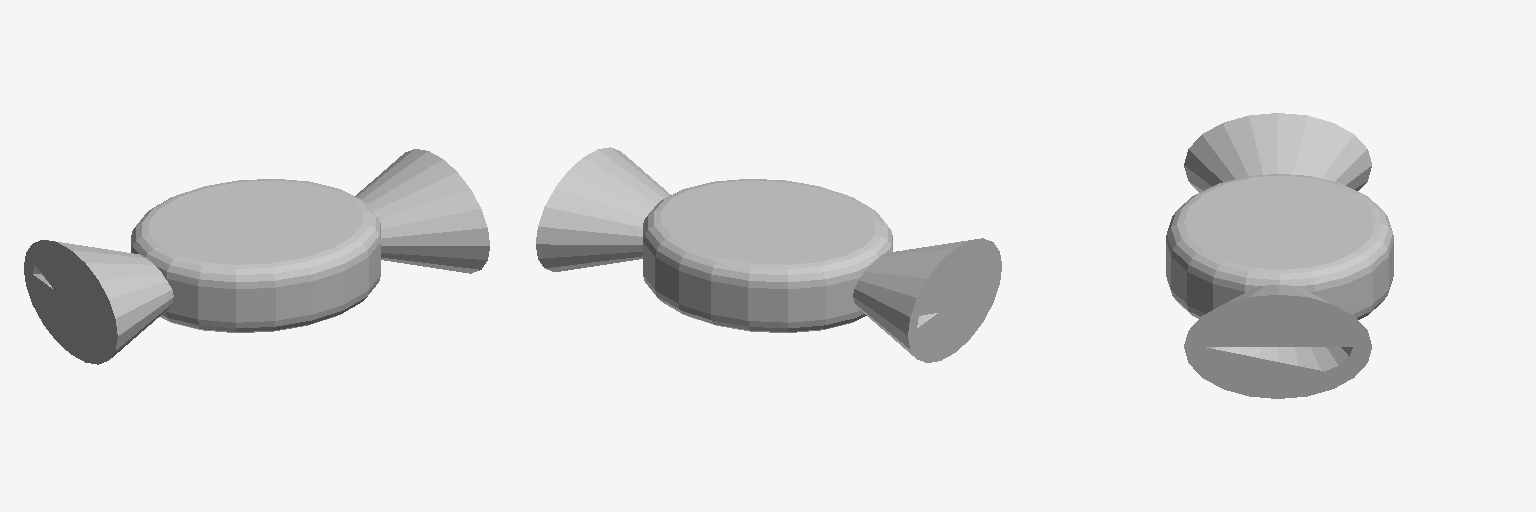
The model's file is candy.obj.
3 renders of one model, left to right at view 1: azimuth 30°, elevation 25°; view 2: azimuth 150°, elevation 25°; view 3: azimuth 270°, elevation 25°, orthographic.
Parts seen in each view (by area): view 1: pCylinder1 candy, candy polySurface6; view 2: pCylinder1 candy, candy polySurface6; view 3: candy polySurface6, pCylinder1 candy.
Part boxes in pixels (bbox=[...]): pCylinder1 candy: bbox=[131, 179, 380, 332]; candy polySurface6: bbox=[24, 149, 489, 364]; pCylinder1 candy: bbox=[643, 179, 892, 332]; candy polySurface6: bbox=[536, 147, 1001, 362]; candy polySurface6: bbox=[1184, 113, 1371, 398]; pCylinder1 candy: bbox=[1166, 174, 1393, 319].
Bounding box in the file's own units: 3.3 × 0.8846 × 1.76.